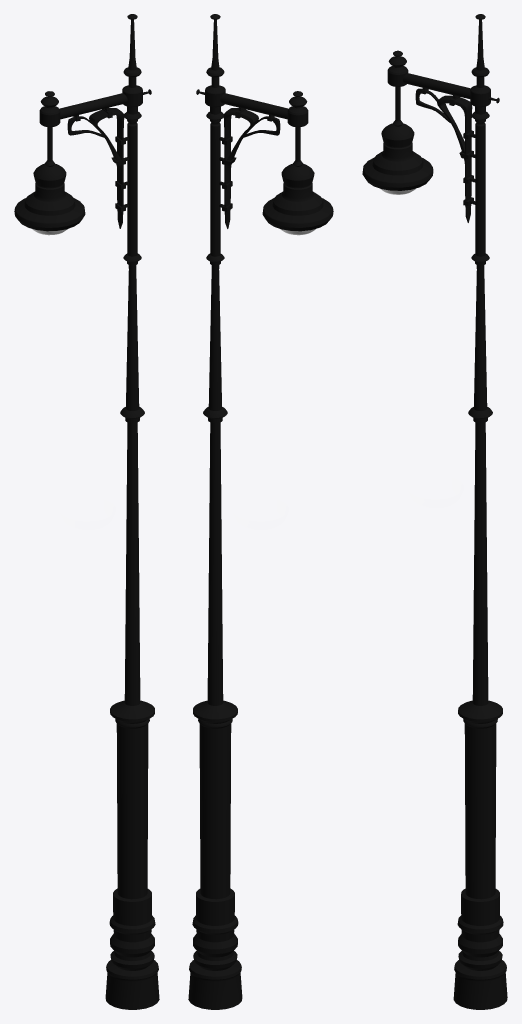
Rendered from street_lamp.glb.
The picture shows the model from 3 angles, left to right: view 1: azimuth 30°, elevation 25°; view 2: azimuth 150°, elevation 25°; view 3: azimuth 330°, elevation 25°; orthographic projection.
Parts seen in each view (by area): view 1: polySurface12_lambert2_0; view 2: polySurface12_lambert2_0; view 3: polySurface12_lambert2_0.
Boxes of the visible parts, x1,y1,x2,y2 form: polySurface12_lambert2_0: (14, 14, 159, 1009); polySurface12_lambert2_0: (188, 14, 333, 1009); polySurface12_lambert2_0: (362, 14, 507, 1009).
Size of the model in its own units: 232969 by 1598344 by 105168.
2 materials, 1 textured.
